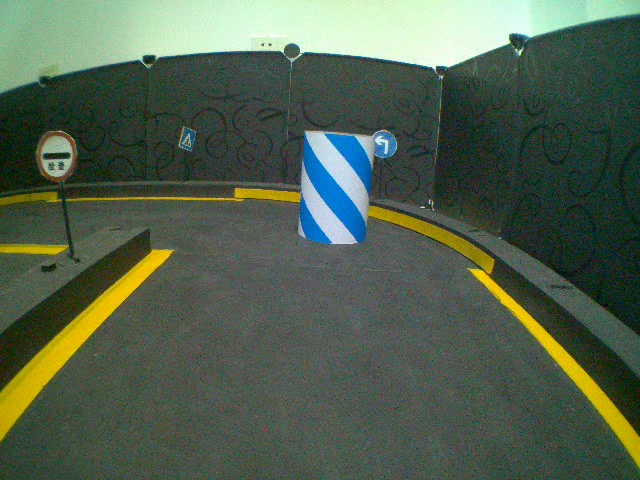bucket: (300, 130, 374, 248)
